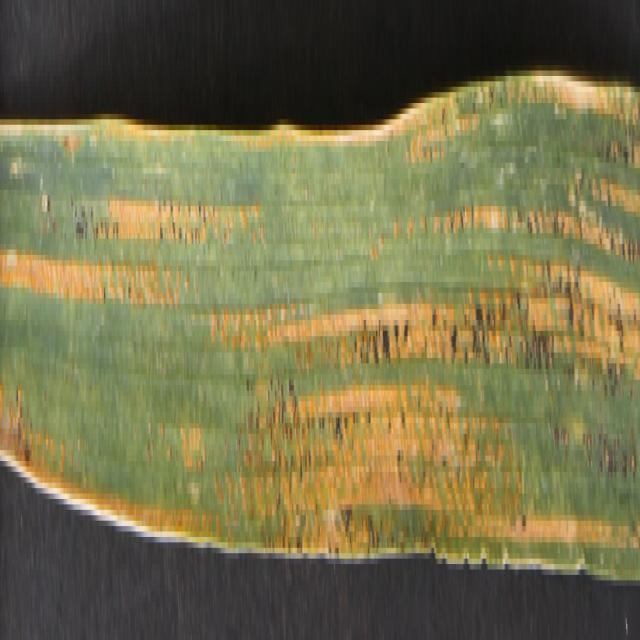leaf rust: (1, 109, 638, 532)
